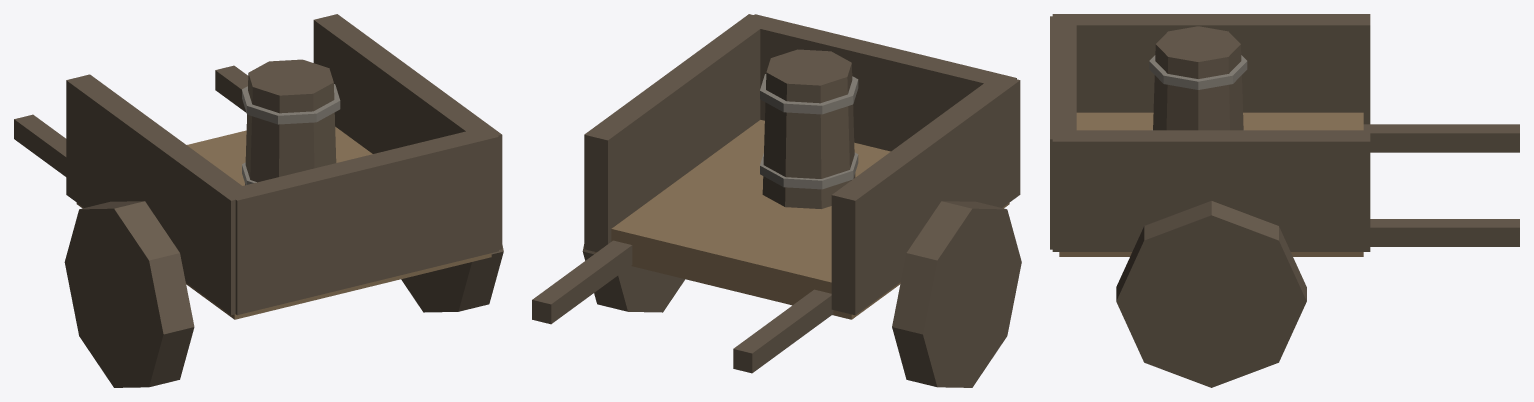
File: Town_Handcart.fbx
3 views of the same model, side by side, from view 1: azimuth 30°, elevation 25°; view 2: azimuth 150°, elevation 25°; view 3: azimuth 270°, elevation 25° (orthographic). The views are drawn at different scales.
Parts seen in each view (by area): view 1: Town_Handcart; view 2: Town_Handcart; view 3: Town_Handcart.
Part boxes in pixels (x1,y1,x2,y2): Town_Handcart: (14, 14, 503, 387); Town_Handcart: (532, 14, 1021, 387); Town_Handcart: (1050, 14, 1519, 387).
Bounding box in the file's own units: 1.43 × 1.1 × 1.77.
